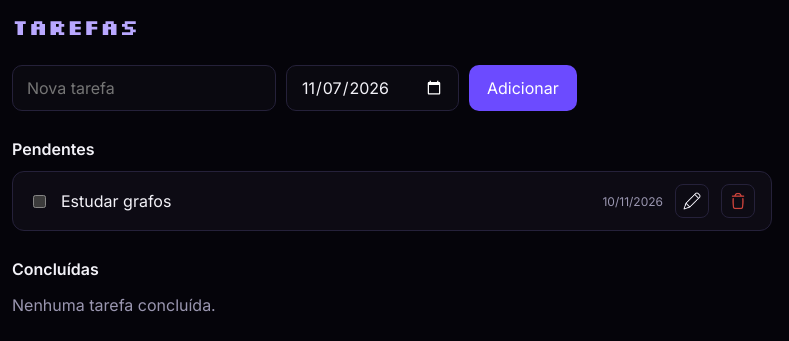
Test: TasksPage › edita texto e data
Check: the text "Estudar grafos" is shown, box [61,191,171,211]
Click the button named "Editar Estudar grafos". click: click(692, 201)
box: [675,184,709,218]
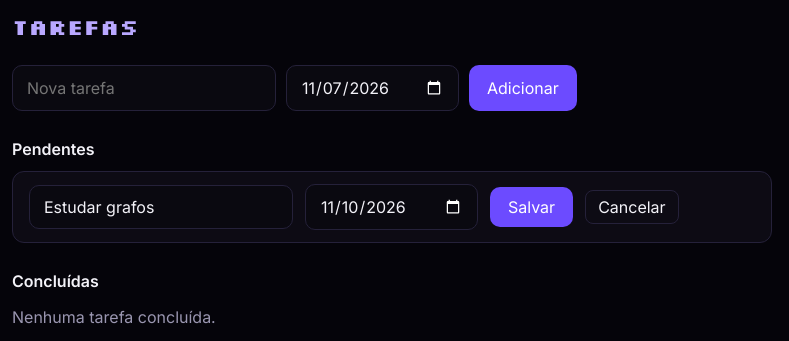
Replace the text in the field named "Texto da tarefa" with "Estudar árvores". click: (161, 207)
box: [29,185,293,229]
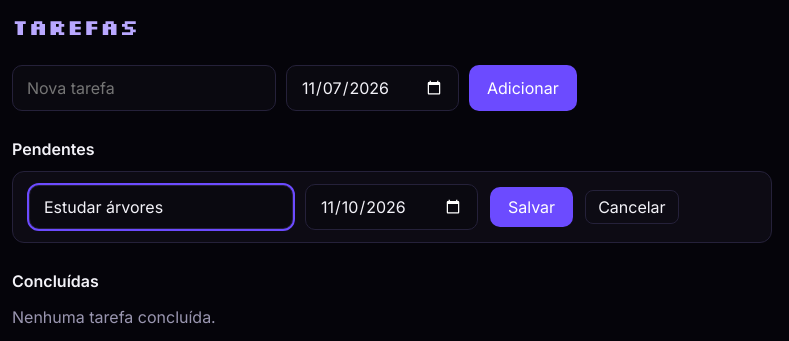
Click the button "Salvar". click: click(532, 207)
box: [490,187,573,227]
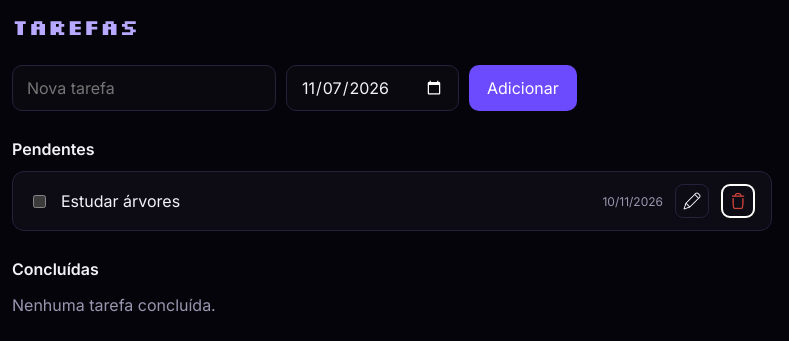
Check: the text "Estudar árvores" is shown, box [61,191,180,211]
